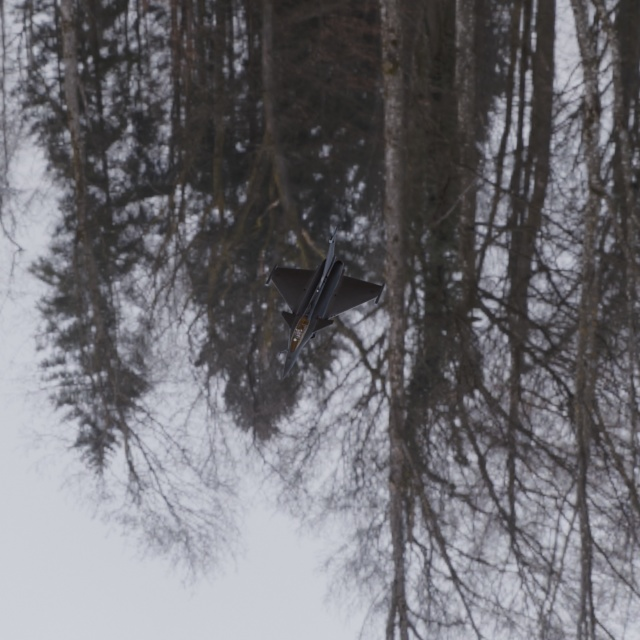dassault_rafale: (222, 215, 393, 394)
